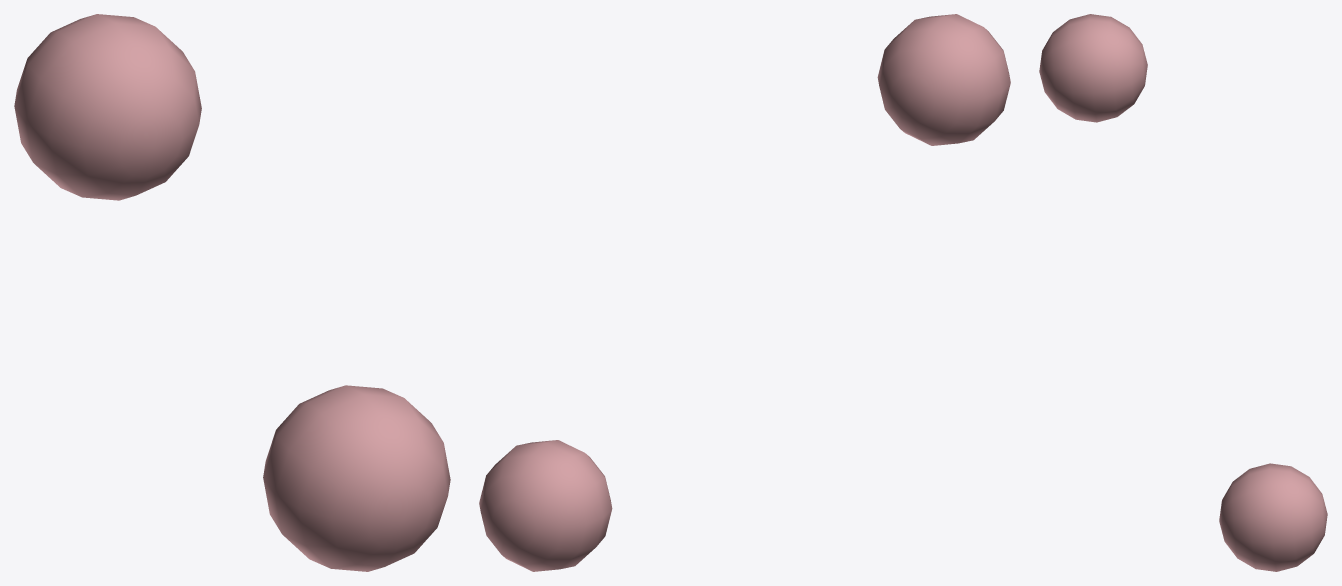
3 views of the same model, side by side, from view 1: azimuth 30°, elevation 25°; view 2: azimuth 150°, elevation 25°; view 3: azimuth 270°, elevation 25° (orthographic). The views are drawn at different scales.
Visible parts, largest first — view 1: ZA_5a4e7d2cf85174e4; view 2: ZA_5a4e7d2cf85174e4; view 3: ZA_5a4e7d2cf85174e4.
Part boxes in pixels (x1,y1,x2,y2): ZA_5a4e7d2cf85174e4: (14, 14, 450, 571); ZA_5a4e7d2cf85174e4: (479, 14, 1010, 571); ZA_5a4e7d2cf85174e4: (1039, 14, 1327, 571).
Size of the model in its own units: 0.00902 by 0.0114 by 0.00689.
